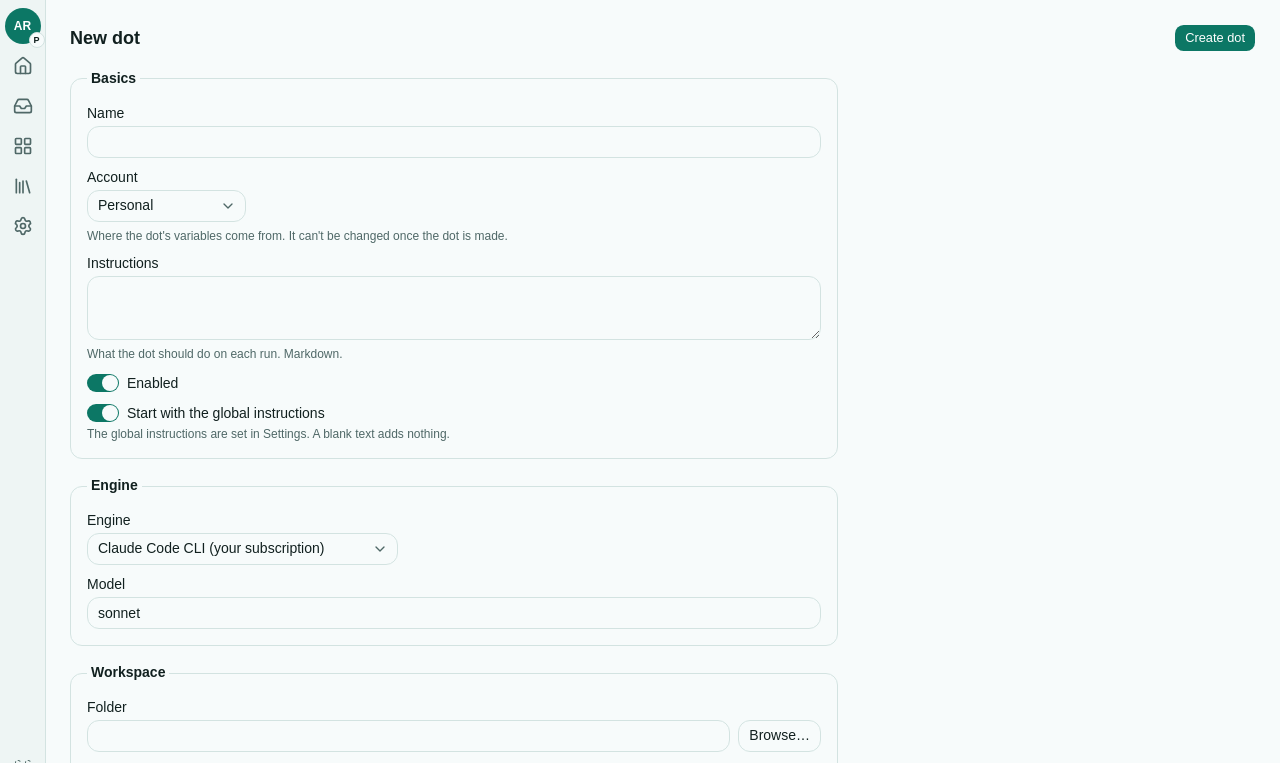
Scenario: the org of a new dot › shows the org as text once the dot is made, with no picker
Type "nightly" into the field labelled "Name" at (454, 142), box [87, 126, 821, 158]
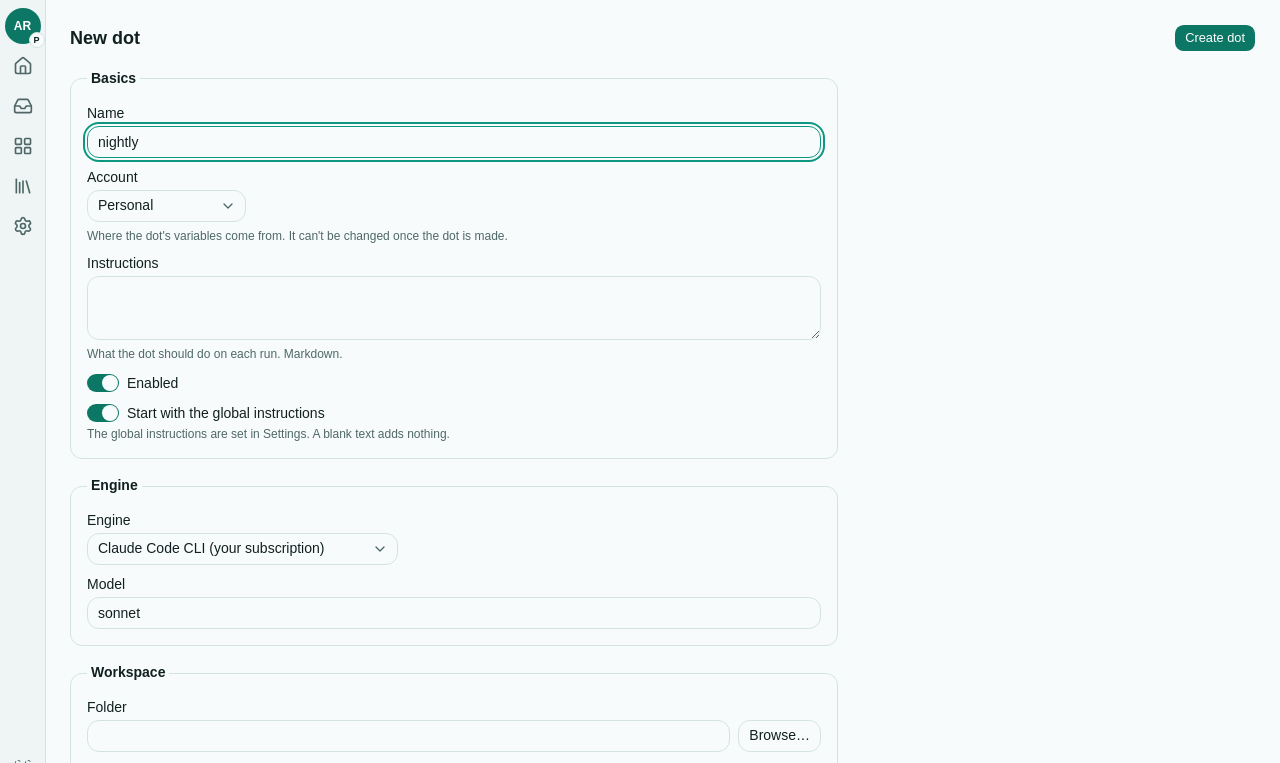
Type "Run the tests." into the text box labelled "Instructions" at (454, 308), box [87, 276, 821, 340]
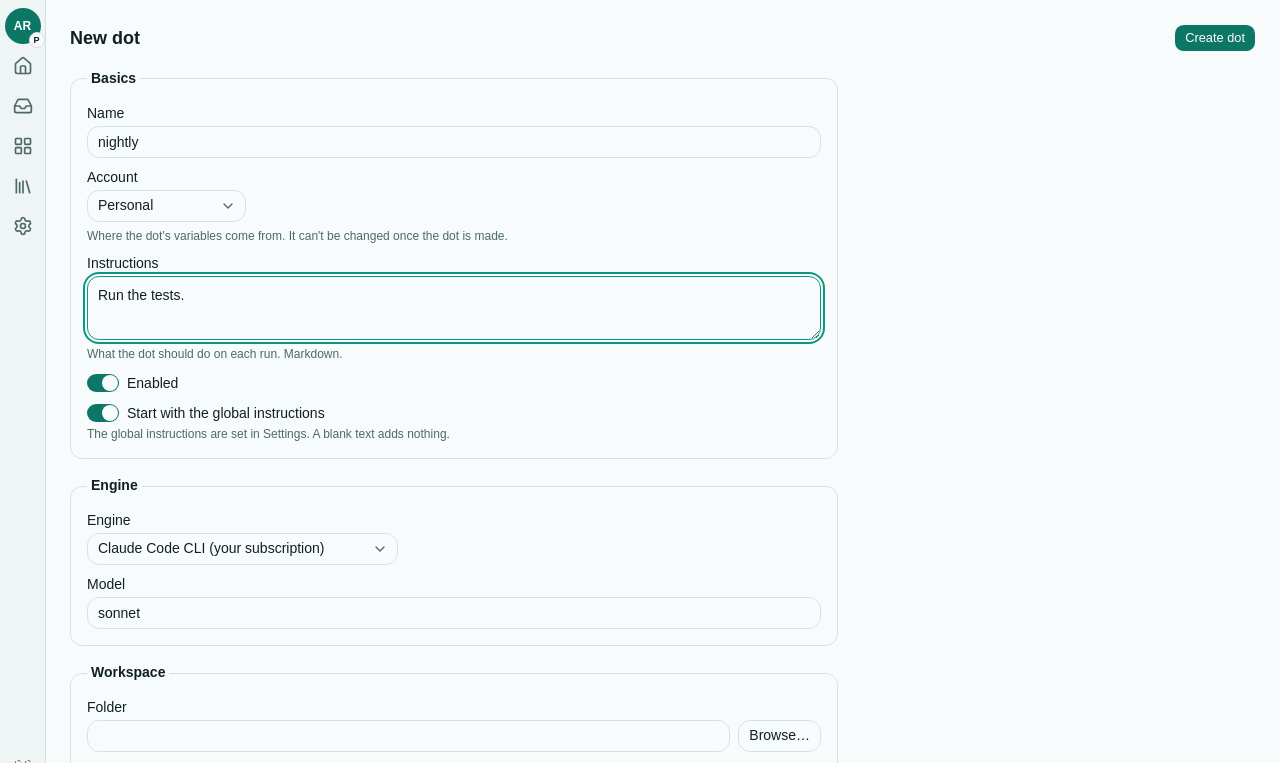
Type "C:/dev/app" into the field labelled "Folder" at (409, 736), box [87, 720, 730, 752]
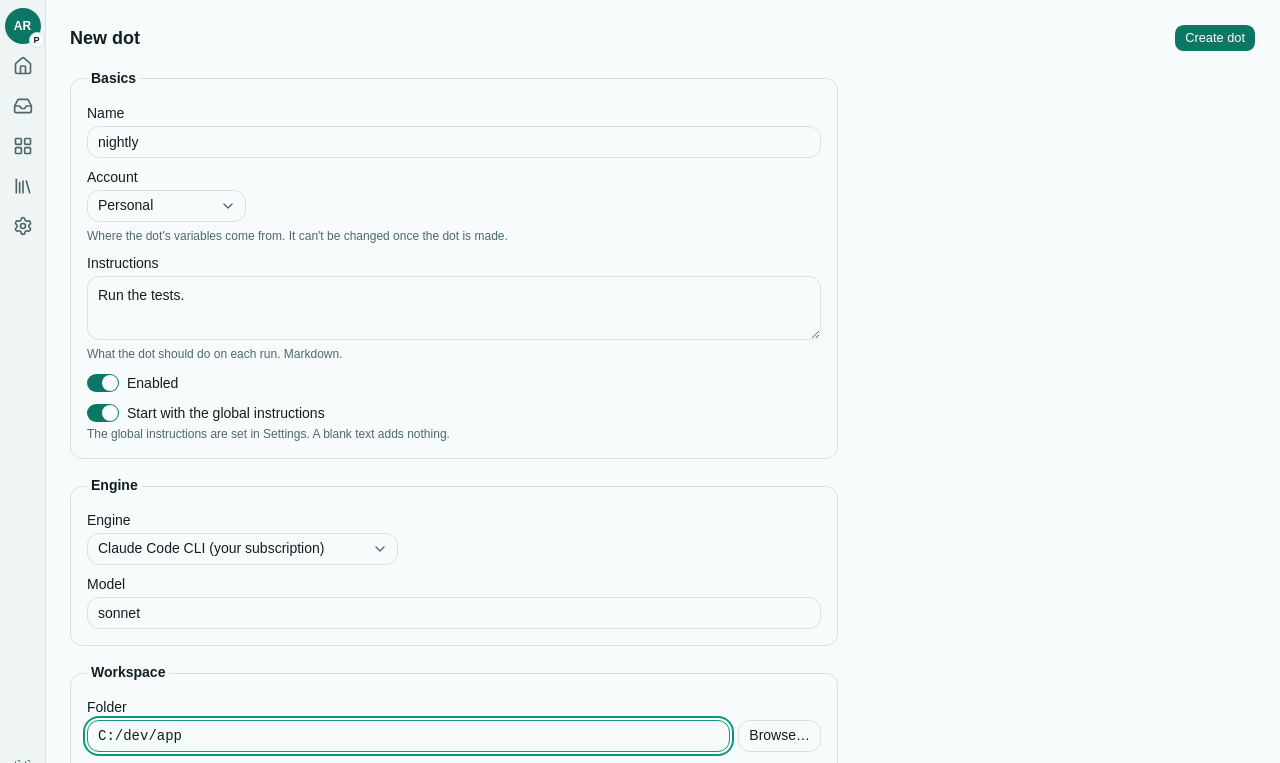
Select "Acme Engineering" in the dropdown labelled "Account" at (166, 206), box [87, 190, 246, 222]
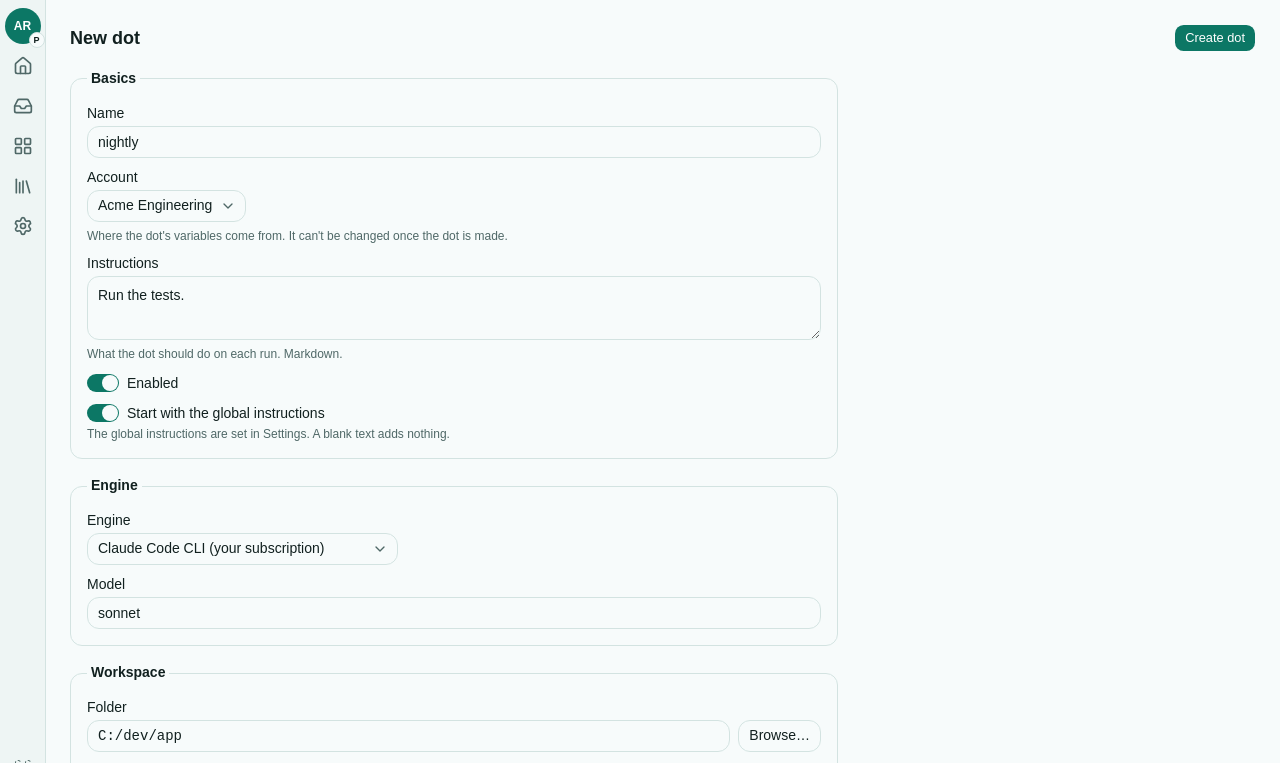
Click the button "Create dot" at (1215, 38), box [1174, 24, 1256, 52]
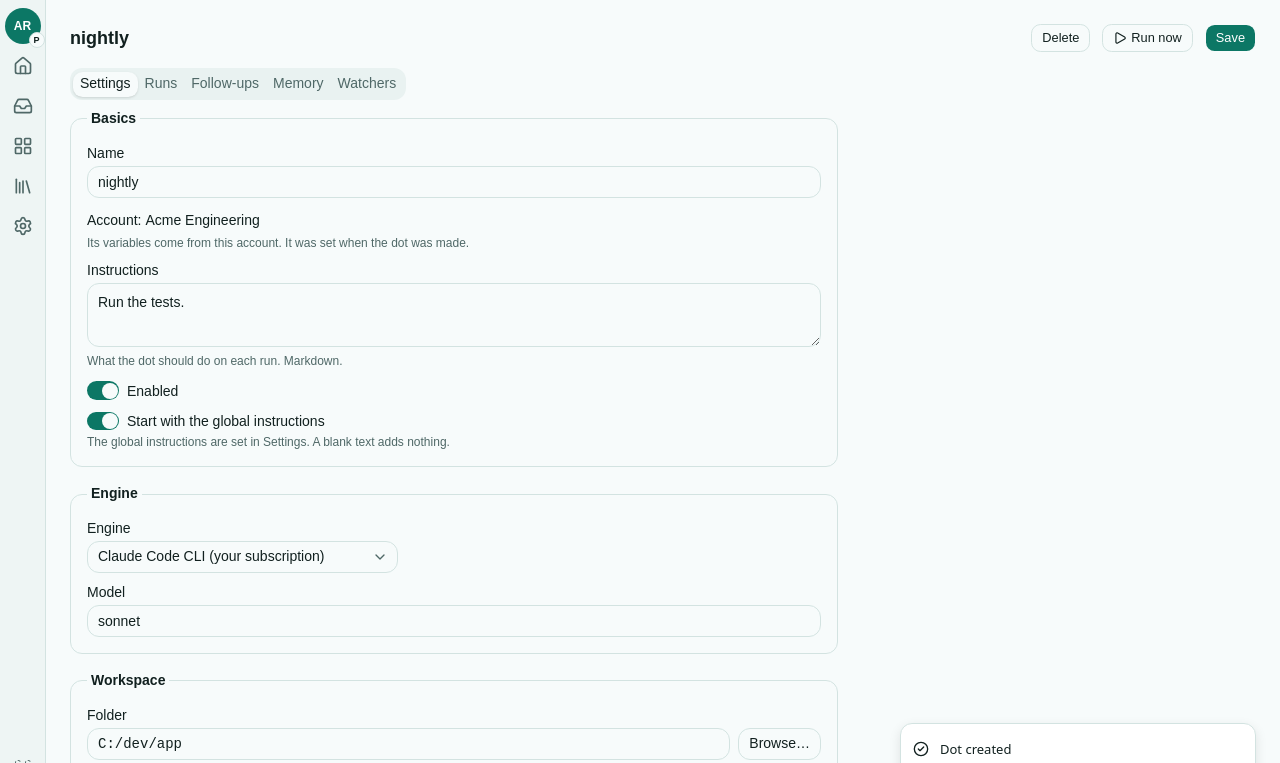
Expected: the element "Account" shows "Account: Acme Engineering", [87, 212, 469, 250]
